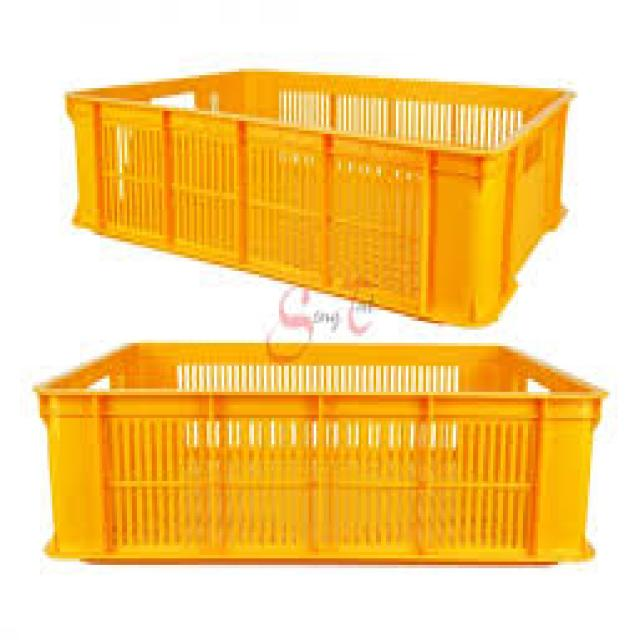basket: (56, 63, 574, 329), (32, 341, 608, 568)
